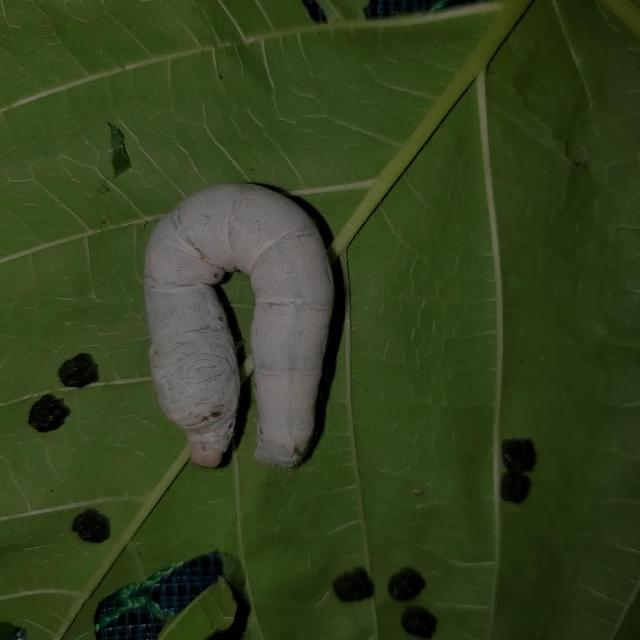Healthy: (133, 173, 344, 474)
